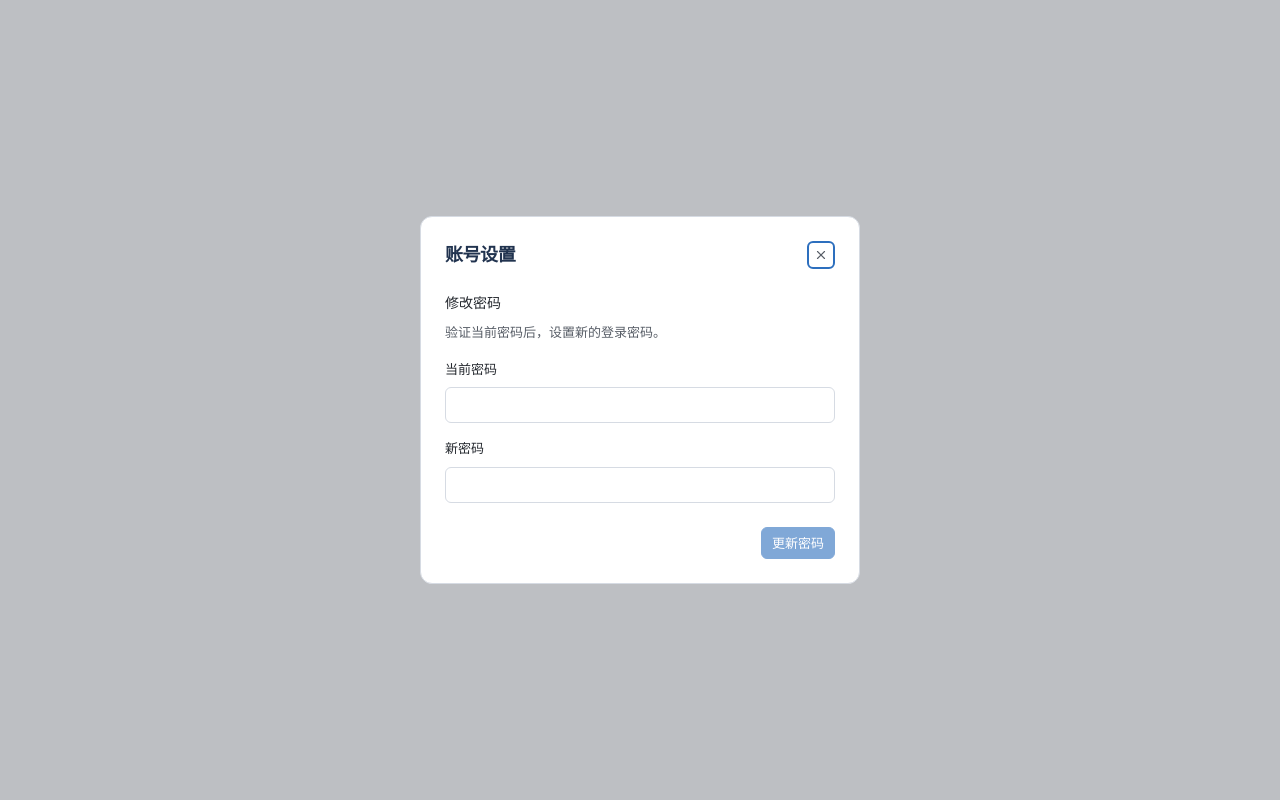
Test: password update submits existing fields and clears them only after success
Type "old-password" into the password field labelled "当前密码". click: (640, 405)
box: top-left (445, 387), bottom-right (835, 423)
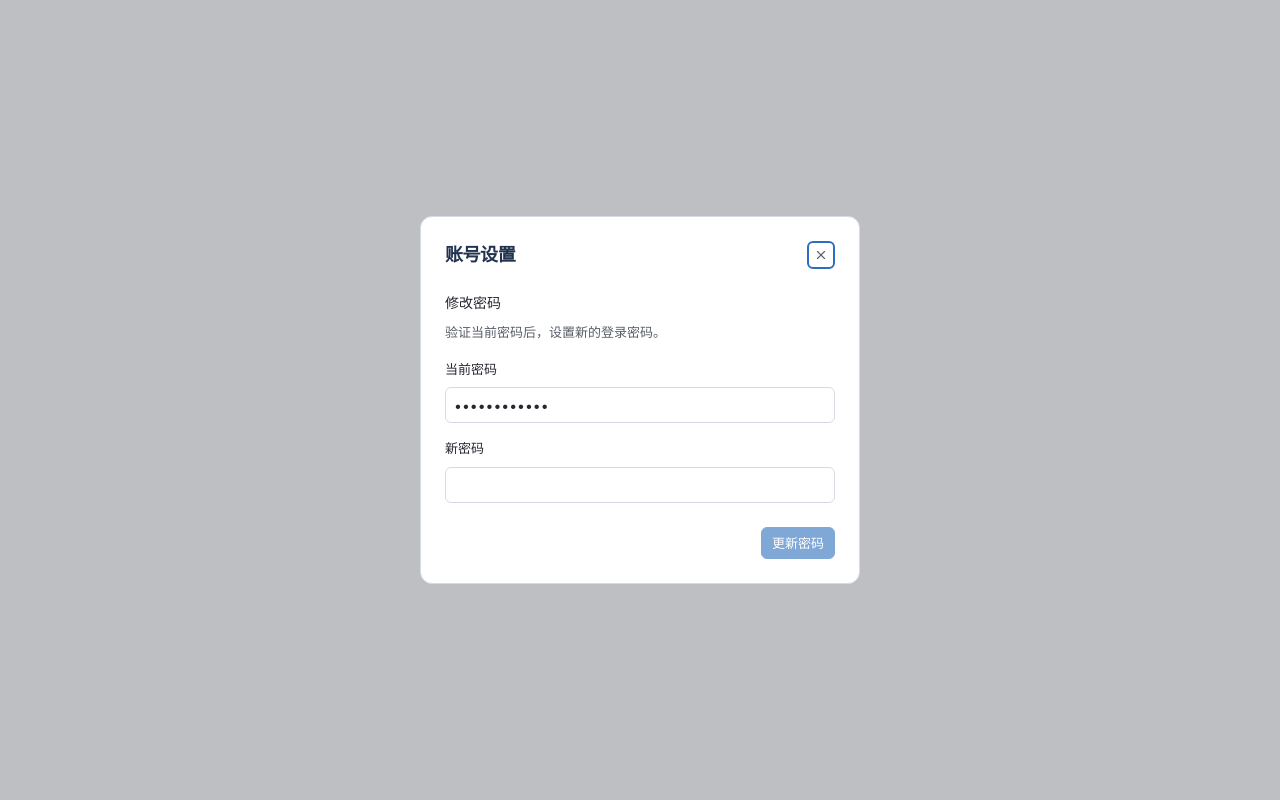
Type "new-password" into the password field labelled "新密码". click: (640, 484)
box: top-left (445, 466), bottom-right (835, 502)
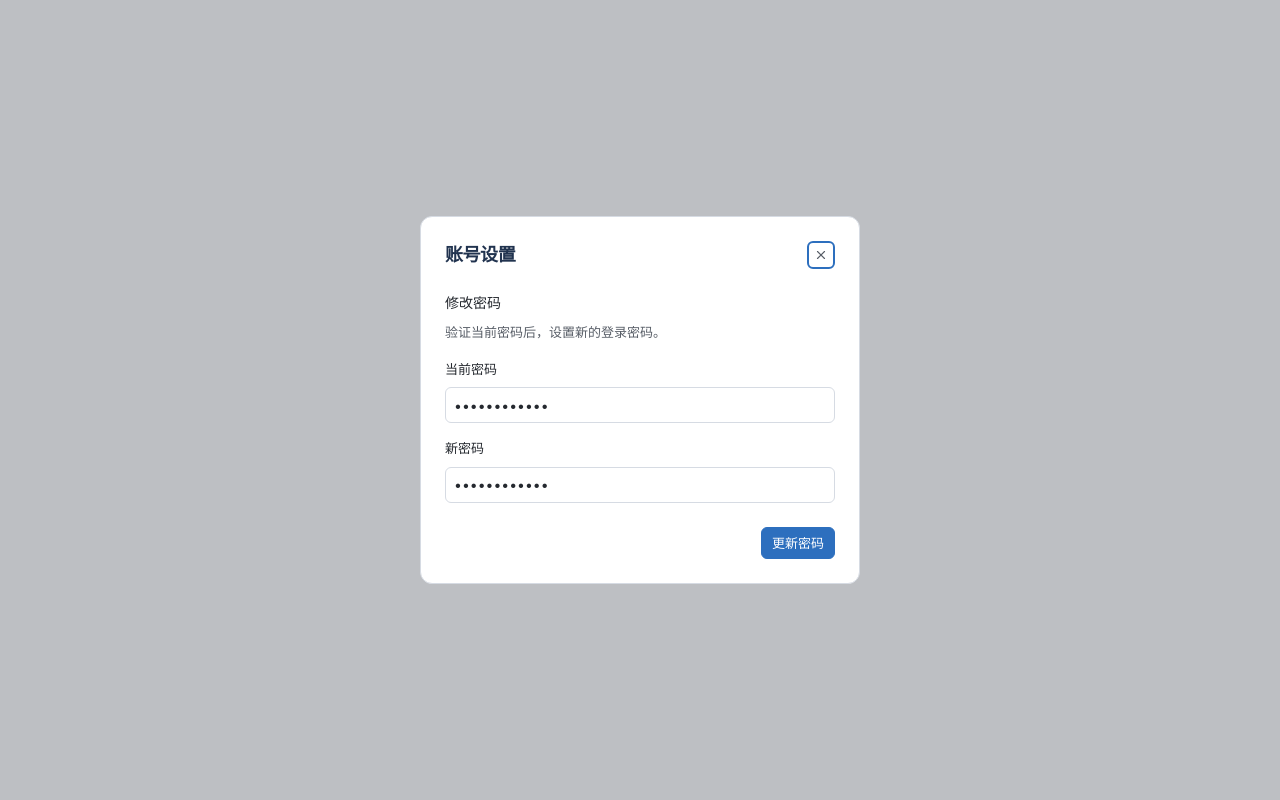
Click the button "更新密码". click: (798, 542)
box: top-left (761, 526), bottom-right (835, 558)
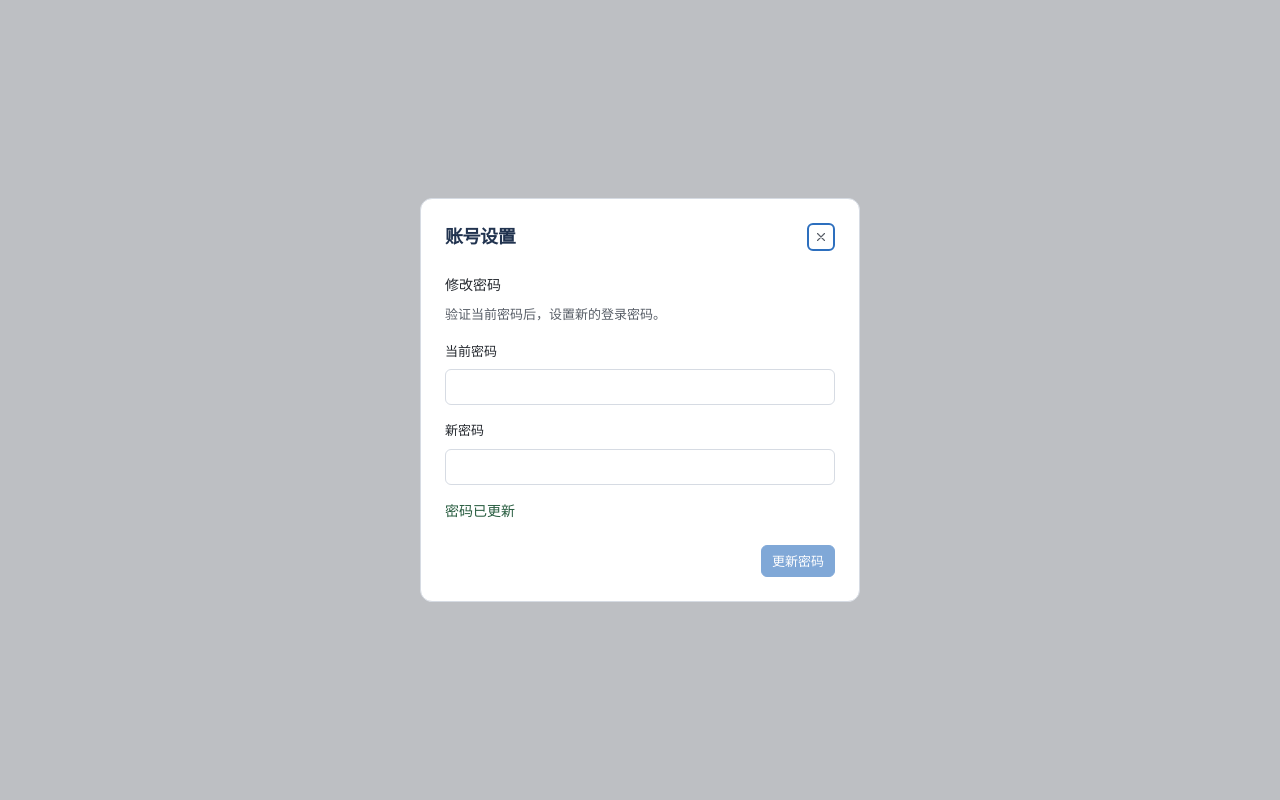
Check: the message "密码已更新" is shown, box top-left (445, 502), bottom-right (515, 518)
Check: the password field labelled "当前密码" is empty, box top-left (445, 369), bottom-right (835, 405)
Check: the password field labelled "新密码" is empty, box top-left (445, 448), bottom-right (835, 484)
